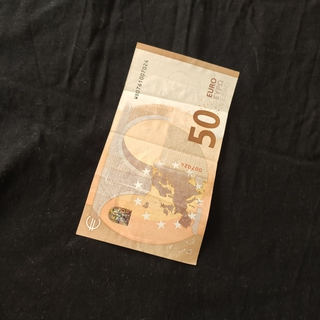50EUROBack: (73, 40, 240, 267)
